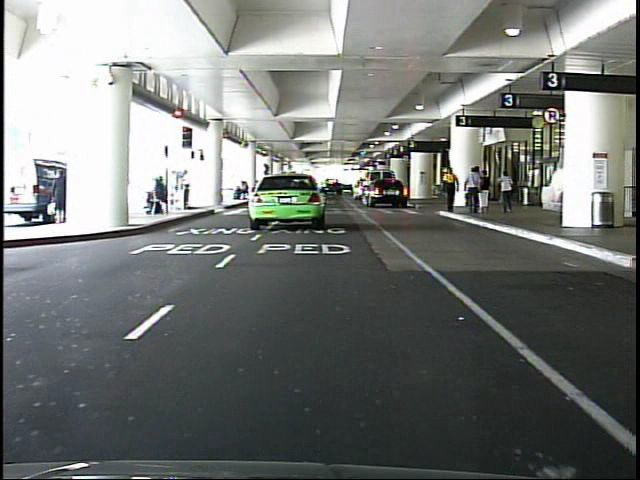person: (52, 168, 79, 226), (438, 163, 462, 218), (492, 171, 517, 217), (463, 163, 483, 216), (479, 169, 495, 217), (181, 169, 197, 214)
